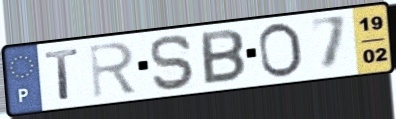7: (307, 15, 350, 74)
B: (199, 27, 248, 87)
O: (256, 21, 306, 81)
R: (86, 39, 140, 100)
S: (148, 32, 199, 92)
T: (42, 46, 82, 102)
